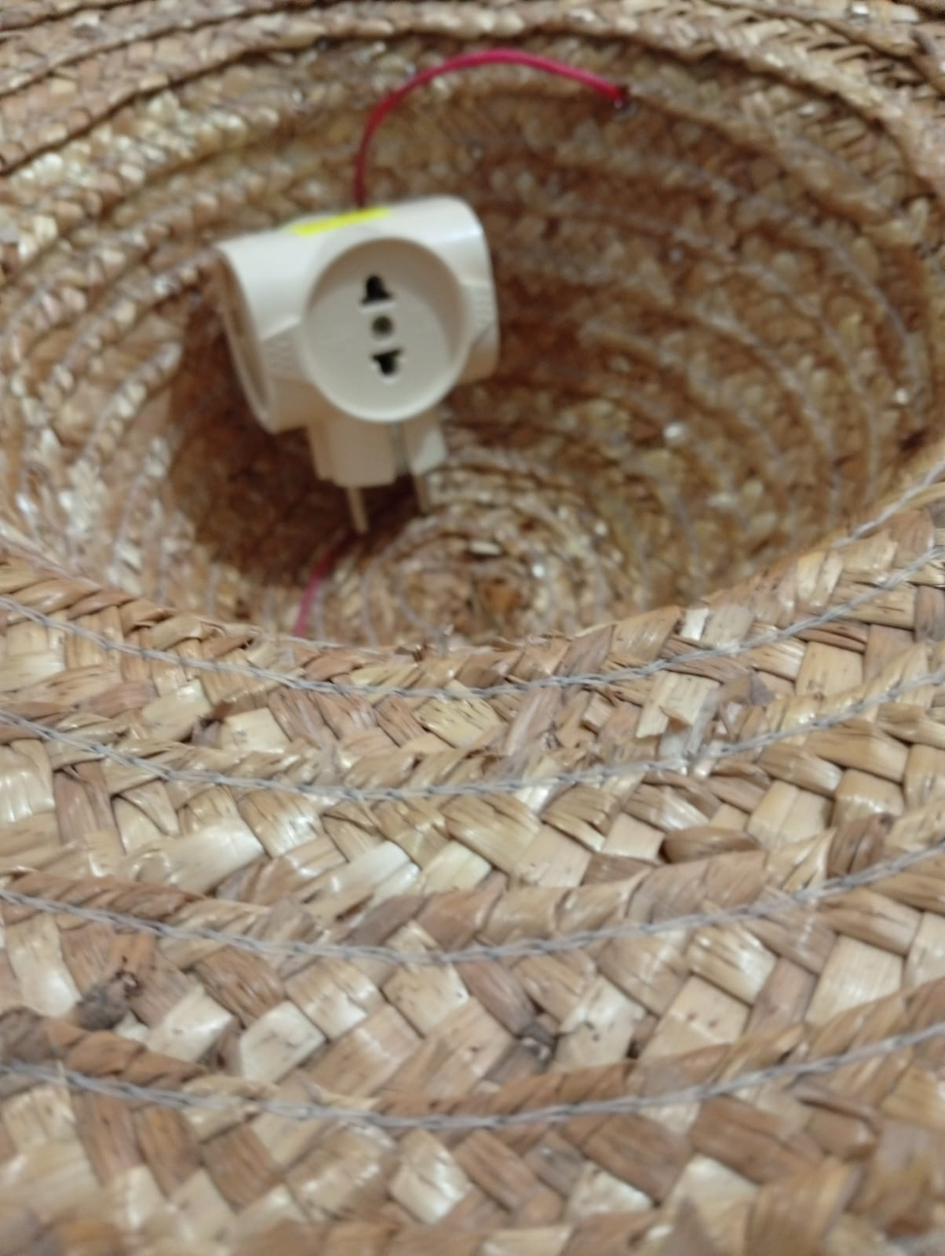Colokan: (170, 173, 524, 542)
